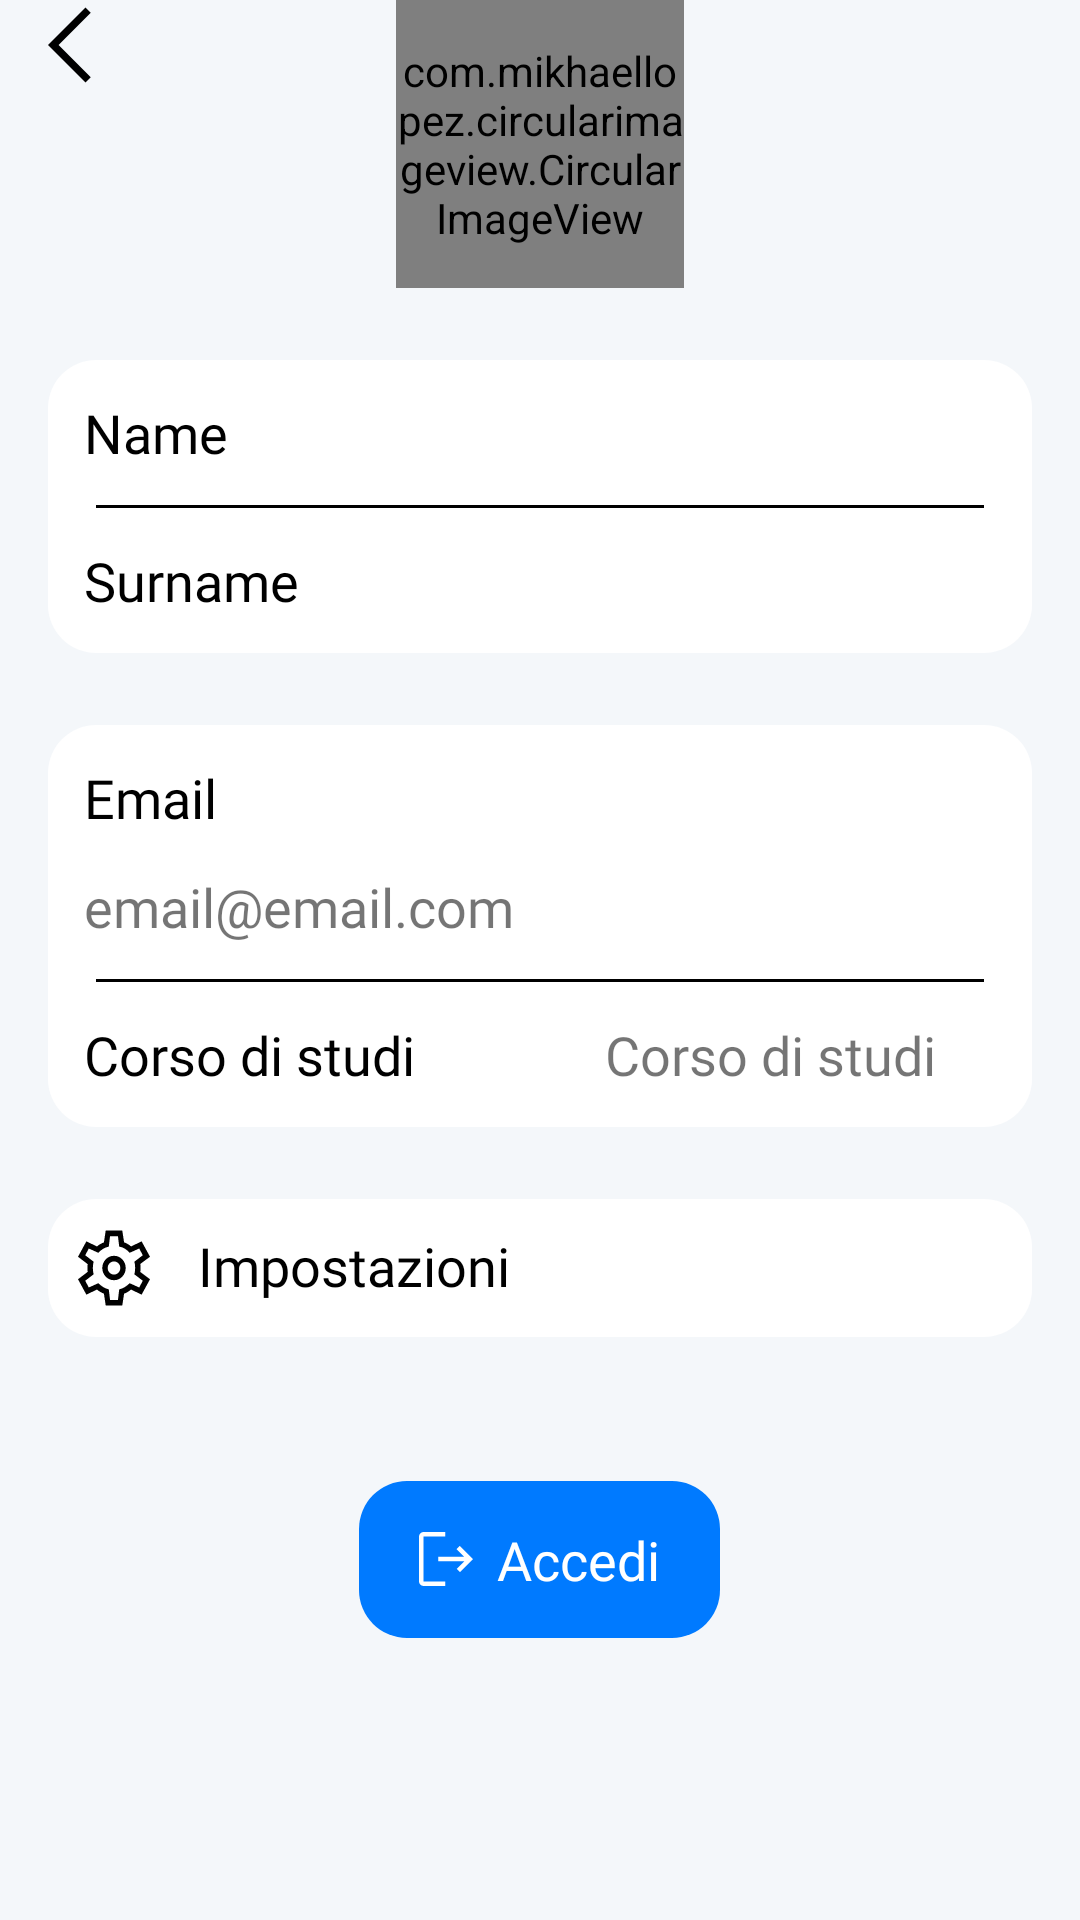

Screen size 1080*1920. Icon name, then its center in pixels as point (x, y):
Torna indietro: point (69, 45)
